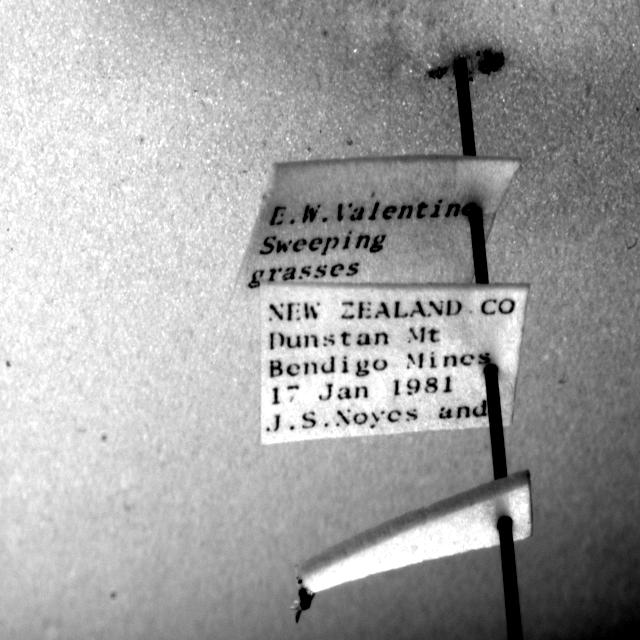typed_label: (260, 283, 529, 444), (232, 156, 520, 304)
